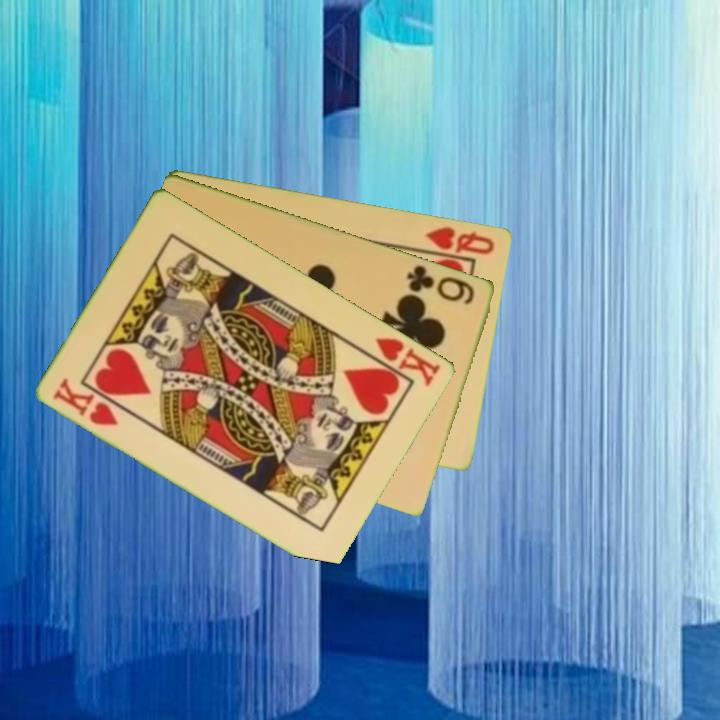6c: (403, 261, 478, 307)
Kh: (360, 333, 444, 389), (50, 374, 122, 429)
Qh: (423, 222, 498, 257)
